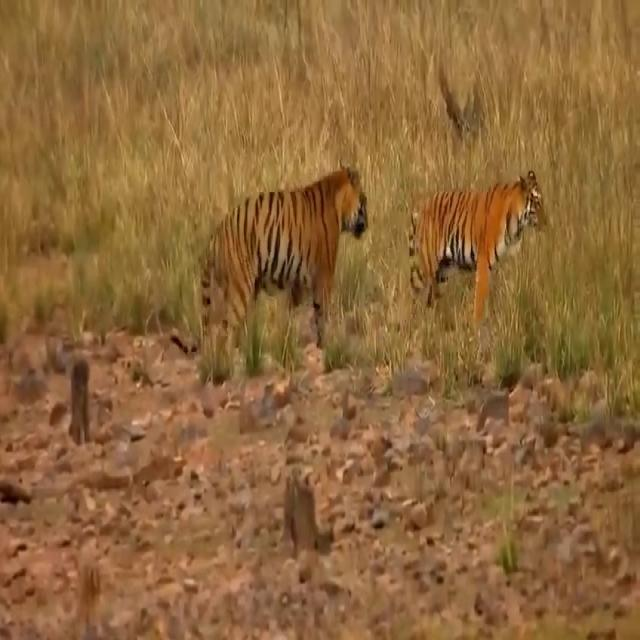tiger: (169, 158, 369, 352), (408, 169, 548, 329)
